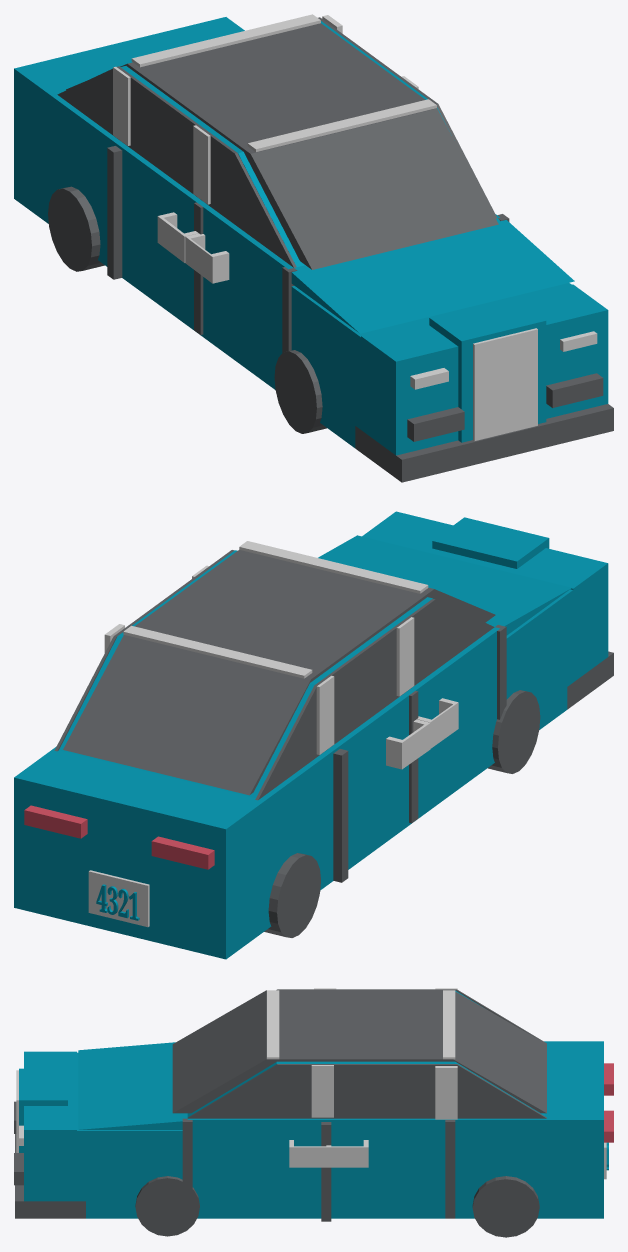
The picture shows the model from 3 angles, top to bottom: view 1: azimuth 30°, elevation 25°; view 2: azimuth 150°, elevation 25°; view 3: azimuth 270°, elevation 25°; orthographic projection. The views are drawn at different scales.
Visible parts, largest first — view 1: Mesh_Mesh_head_geo.001_lambert2SG.001; view 2: Mesh_Mesh_head_geo.001_lambert2SG.001; view 3: Mesh_Mesh_head_geo.001_lambert2SG.001.
Boxes of the visible parts, x1=… form: Mesh_Mesh_head_geo.001_lambert2SG.001: x1=14, y1=14, x2=613, y2=482; Mesh_Mesh_head_geo.001_lambert2SG.001: x1=14, y1=511, x2=613, y2=959; Mesh_Mesh_head_geo.001_lambert2SG.001: x1=14, y1=988, x2=613, y2=1237.
Size of the model in its own units: 88 by 77 by 242.
